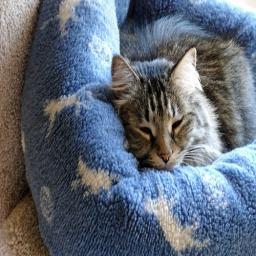catnose: (160, 152, 172, 163)
